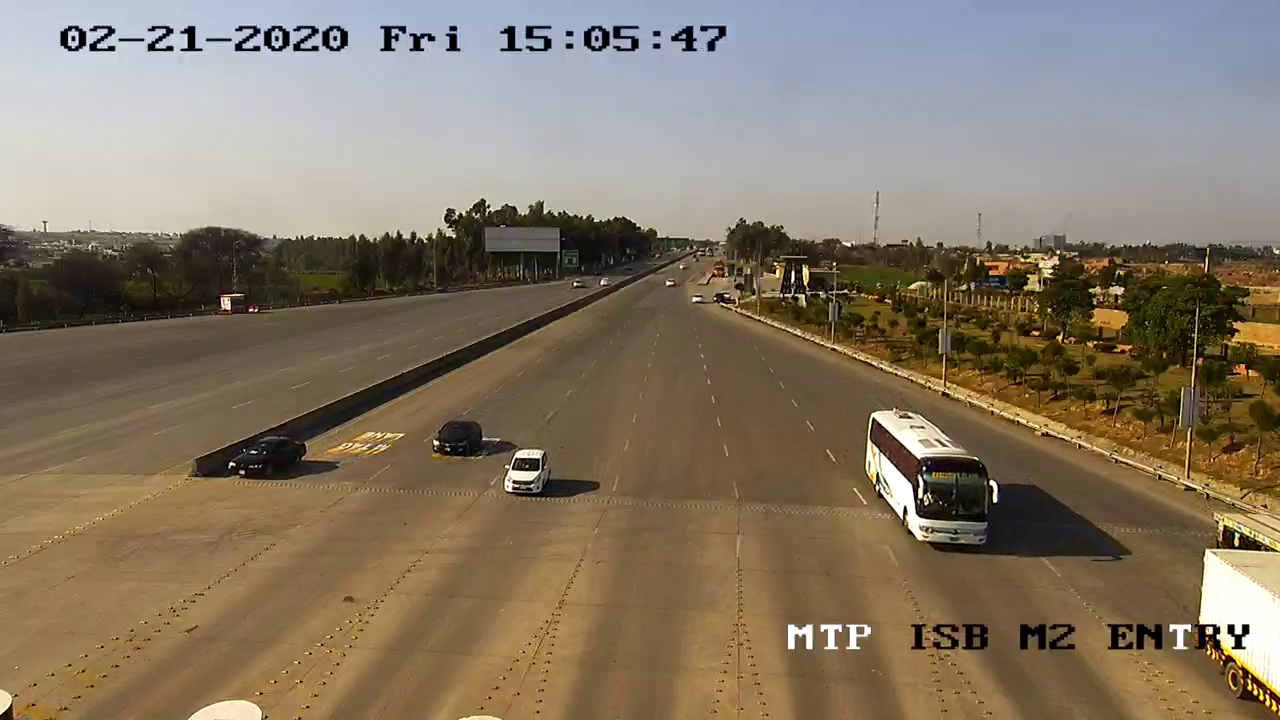f1: (215, 424, 314, 491), (420, 408, 491, 468), (493, 438, 556, 502)
f4: (858, 397, 1009, 560)
